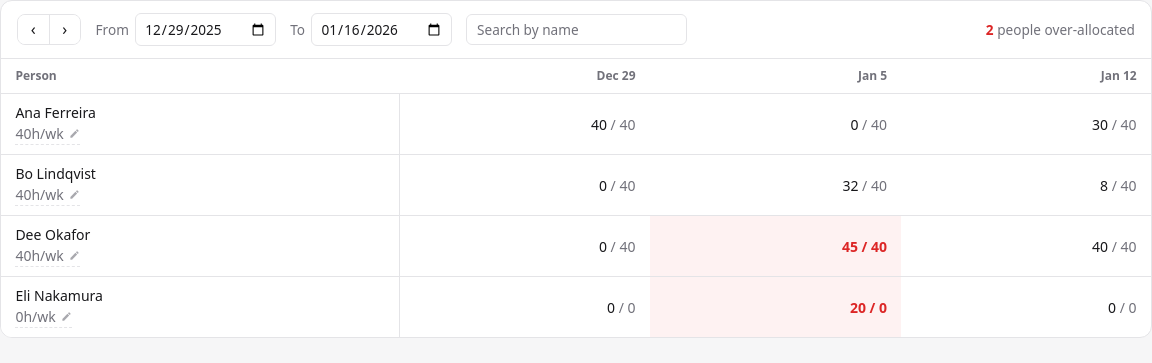
Scenario: editing capacity › opens an editor with an accessible name
Check: the column heading "Ana Ferreira 40h/wk" is shown, box [1,94,400,155]
Click the button "40h/wk" below "Ana Ferreira" at coordinates (48, 135), box [15,124,80,145]
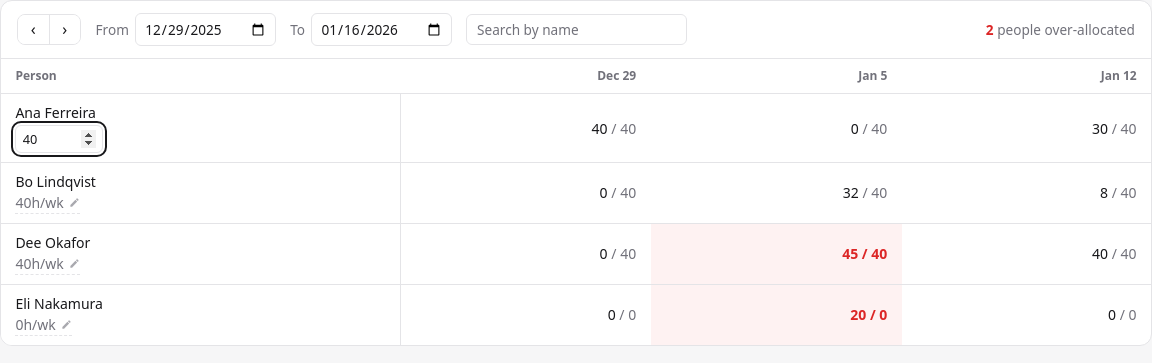
Check: the number field named "Weekly hours for Ana Ferreira" holds "40", box [15,125,103,153]
